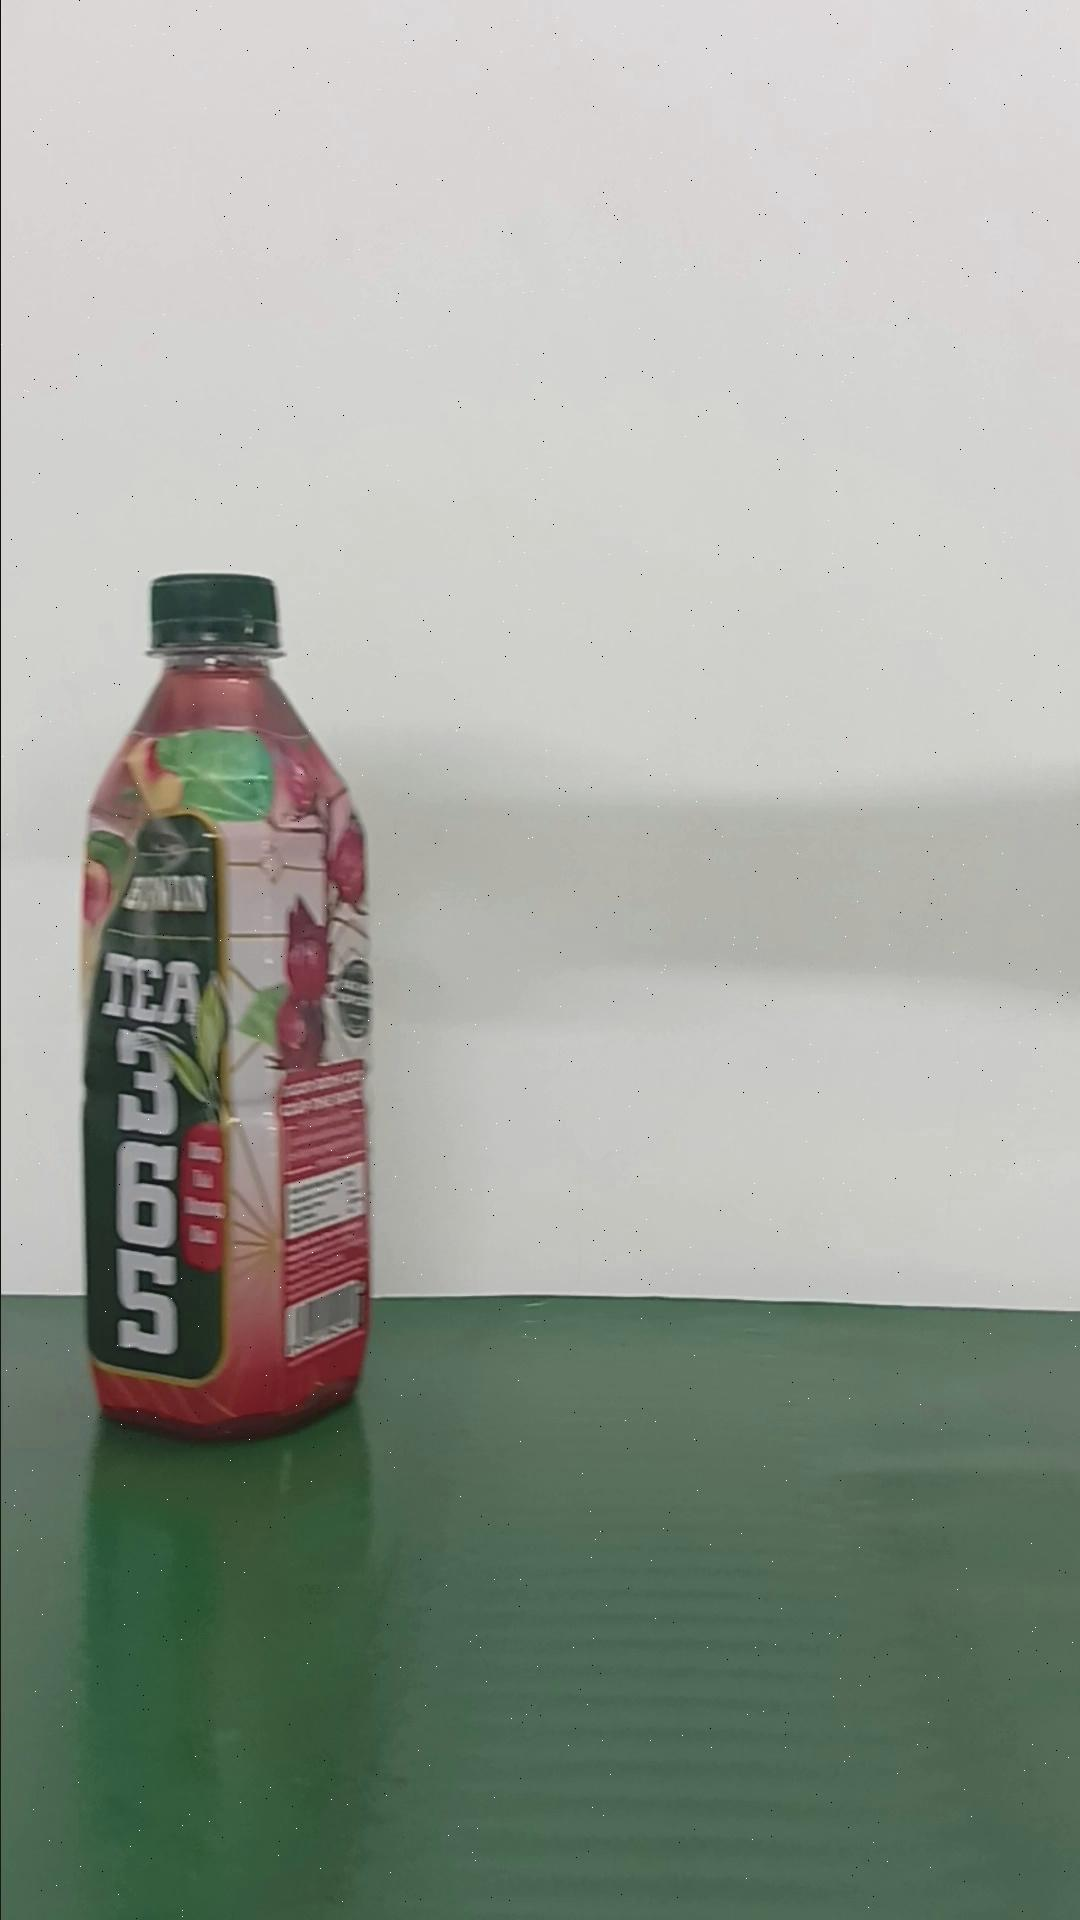loi meo sp: (76, 570, 376, 1441)
